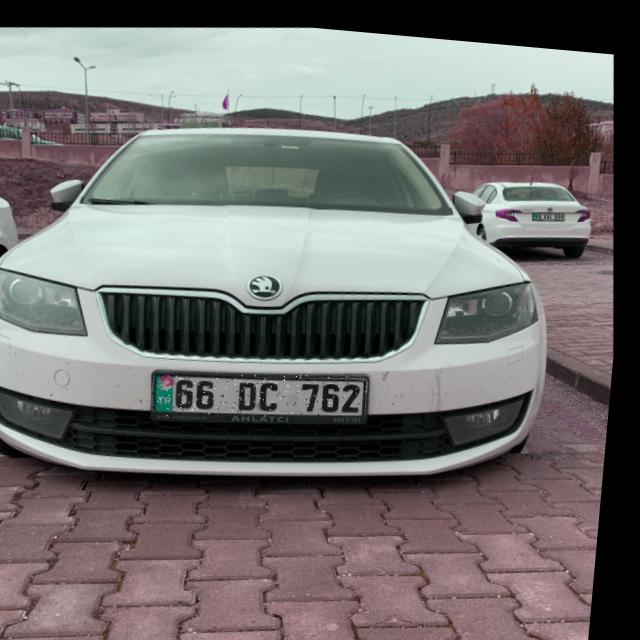license_plate: (156, 352, 377, 427)
